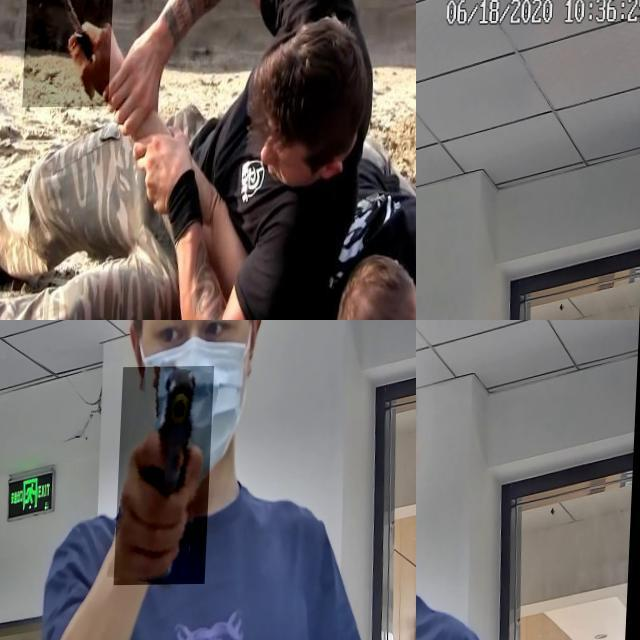-: (24, 0, 116, 107)
gun-knife-thesis - v11 Yolov5 augmented: (118, 367, 217, 586)
